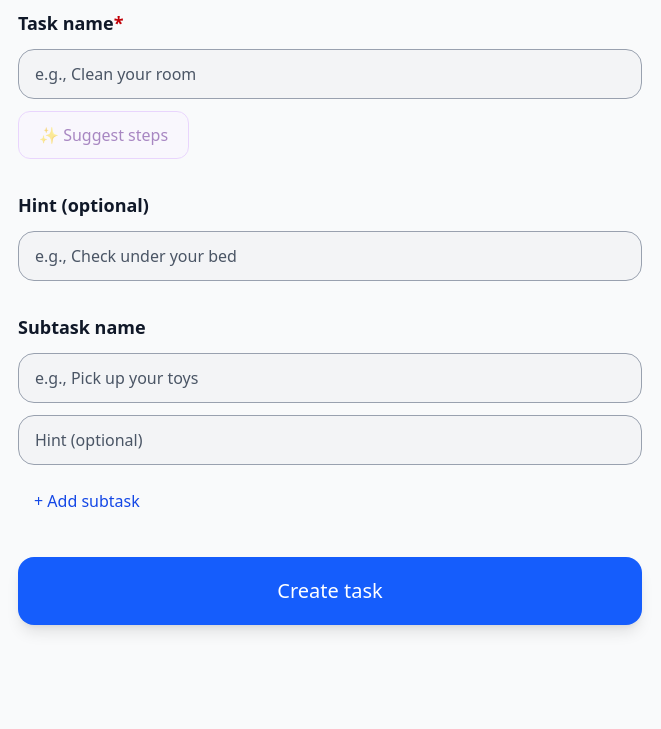
Test: AddTask - AI step suggestions › shows a generic message for server errors
The image size is (661, 729).
In the field labelled "Task name*": coordinates (330, 74) [18,49,642,99], type "Clean your room"
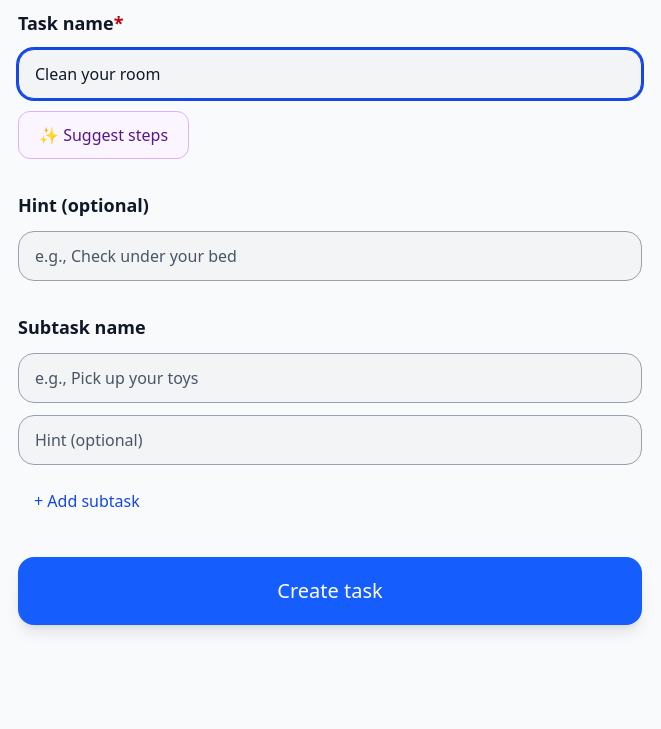
Click the button "✨ Suggest steps": coordinates (104, 135) [18,111,189,159]
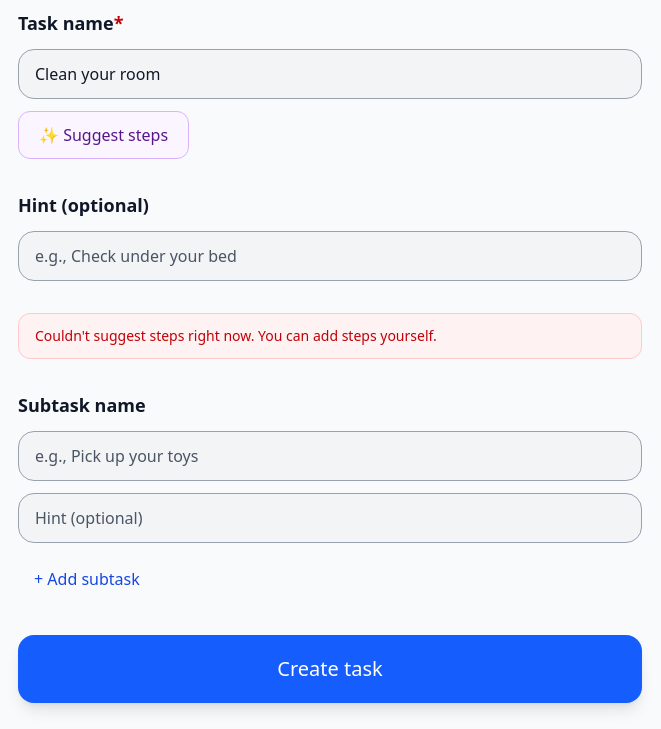
Expected: the message does not show "internal detail", [18,313,642,359]
Expected: the message shows "Couldn't suggest steps right now", [35,326,437,345]
